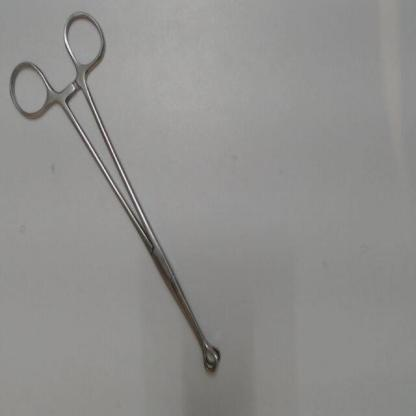8 Babcock Tissue Forceps: (4, 4, 228, 382)
